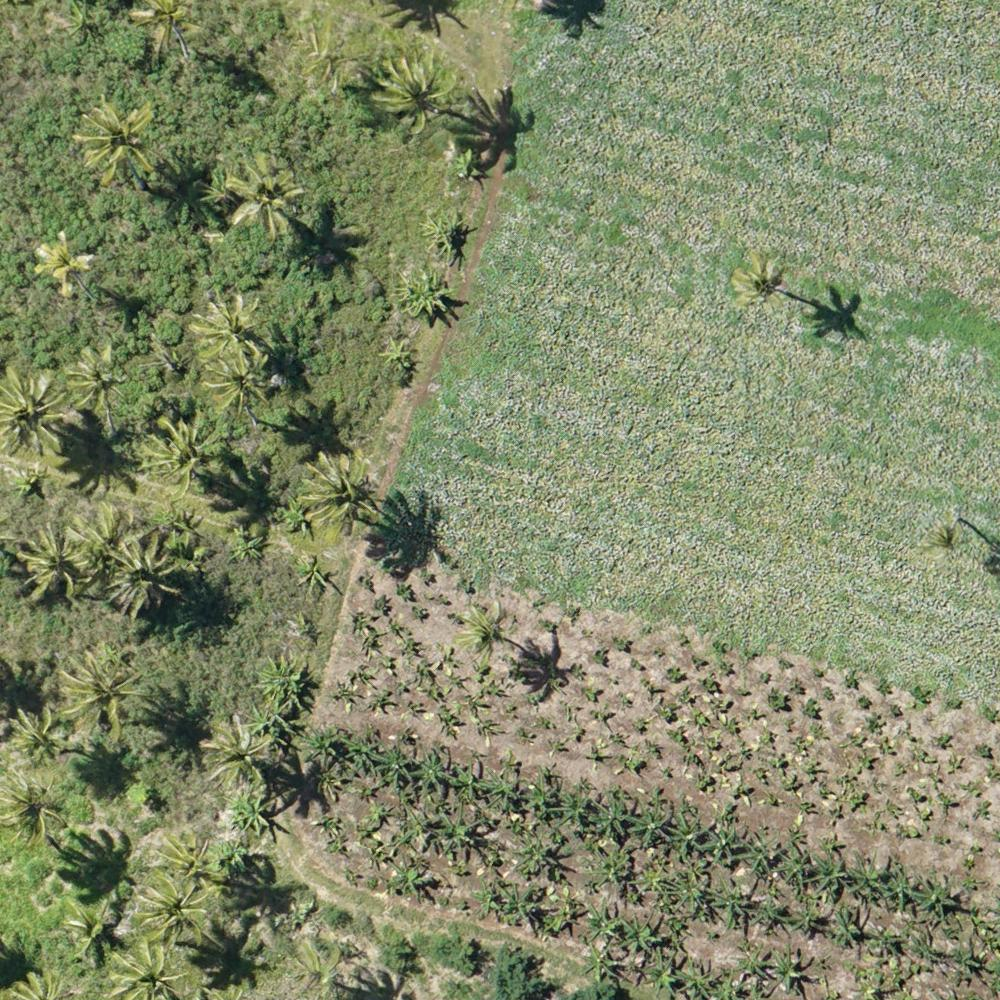Palm: (54, 652, 143, 738), (76, 100, 159, 181), (139, 414, 219, 497), (3, 366, 72, 458), (379, 49, 457, 126), (188, 293, 267, 367), (232, 154, 302, 236), (299, 454, 374, 529), (18, 524, 93, 599), (204, 718, 276, 788), (136, 879, 211, 942), (106, 540, 172, 610), (108, 940, 185, 1000), (1, 779, 67, 845), (62, 349, 129, 412), (54, 900, 118, 965), (208, 361, 274, 421), (4, 711, 66, 771), (728, 249, 791, 308), (457, 597, 514, 661), (152, 833, 213, 892), (38, 231, 91, 292), (917, 517, 965, 565)
